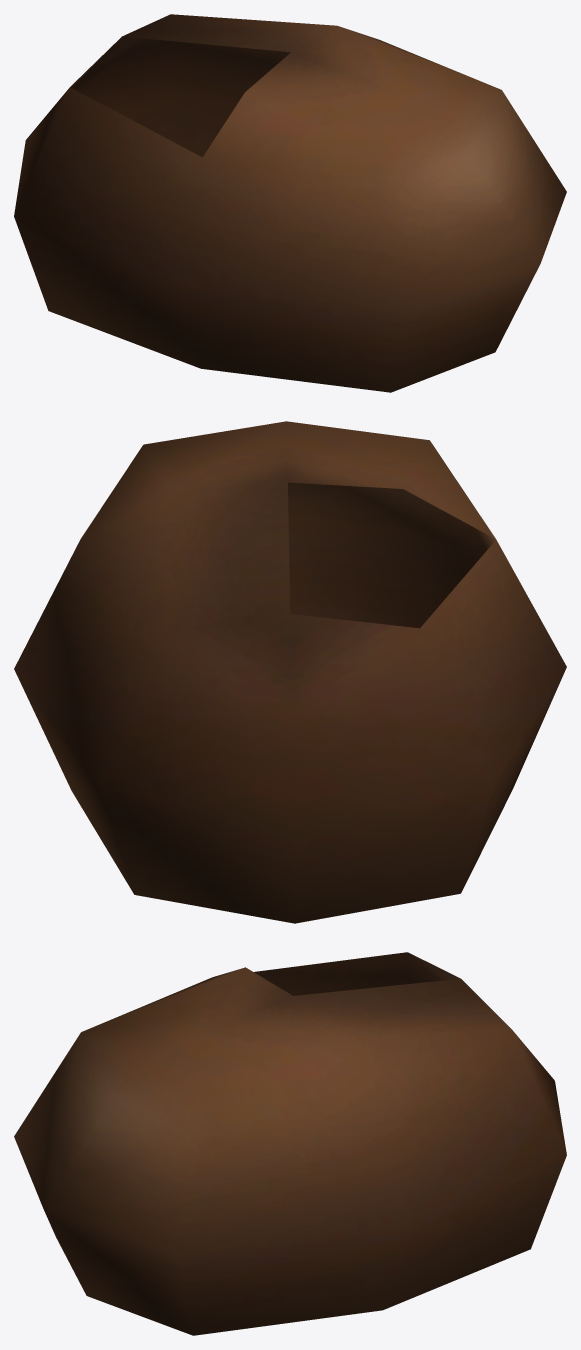
The model's file is GoombaPieIzq.obj.
3 views of the same model, one above another, from view 1: azimuth 30°, elevation 25°; view 2: azimuth 150°, elevation 25°; view 3: azimuth 270°, elevation 25° (orthographic). The views are drawn at different scales.
Visible parts, largest first — view 1: polySurface17 polySurface13 Goomba:GombaMesh; view 2: polySurface17 polySurface13 Goomba:GombaMesh; view 3: polySurface17 polySurface13 Goomba:GombaMesh.
Boxes of the visible parts, x1=… form: polySurface17 polySurface13 Goomba:GombaMesh: x1=14, y1=14, x2=566, y2=392; polySurface17 polySurface13 Goomba:GombaMesh: x1=14, y1=421, x2=566, y2=923; polySurface17 polySurface13 Goomba:GombaMesh: x1=14, y1=952, x2=566, y2=1335.
Bounding box in the file's own units: 0.2105 × 0.114 × 0.2283.
Materials: 1 (1 with a texture image).
